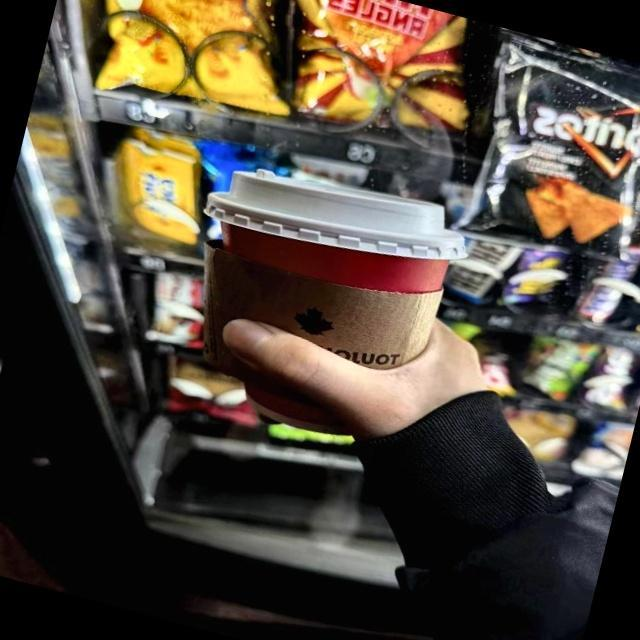timmies: (193, 158, 454, 441)
